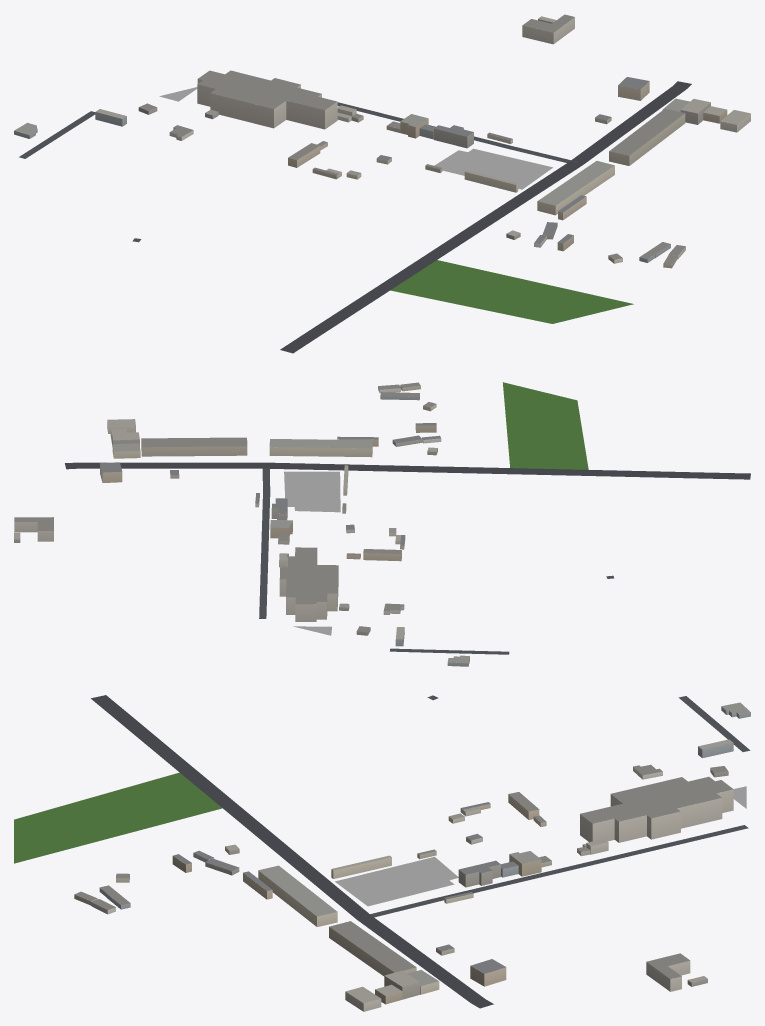
The picture shows the model from 3 angles, top to bottom: view 1: azimuth 30°, elevation 25°; view 2: azimuth 150°, elevation 25°; view 3: azimuth 270°, elevation 25°; orthographic projection. The views are drawn at different scales.
Visible parts, largest first — view 1: buildings_walls, buildings_roofs, landuse, roads; view 2: landuse, buildings_roofs, buildings_walls, roads; view 3: buildings_walls, landuse, buildings_roofs, roads.
Part boxes in pixels (bbox=[...]): buildings_walls: bbox=[14, 17, 750, 268]; buildings_roofs: bbox=[14, 14, 750, 264]; landuse: bbox=[159, 87, 633, 323]; roads: bbox=[19, 81, 691, 353]; landuse: bbox=[284, 382, 588, 635]; buildings_roofs: bbox=[14, 382, 469, 663]; buildings_walls: bbox=[14, 385, 469, 666]; roads: bbox=[65, 462, 750, 654]; buildings_walls: bbox=[74, 706, 750, 1011]; landuse: bbox=[14, 772, 746, 906]; buildings_roofs: bbox=[74, 702, 750, 1003]; roads: bbox=[91, 695, 750, 1008].
Bounding box in the file's own units: 512 × 16.01 × 503.
